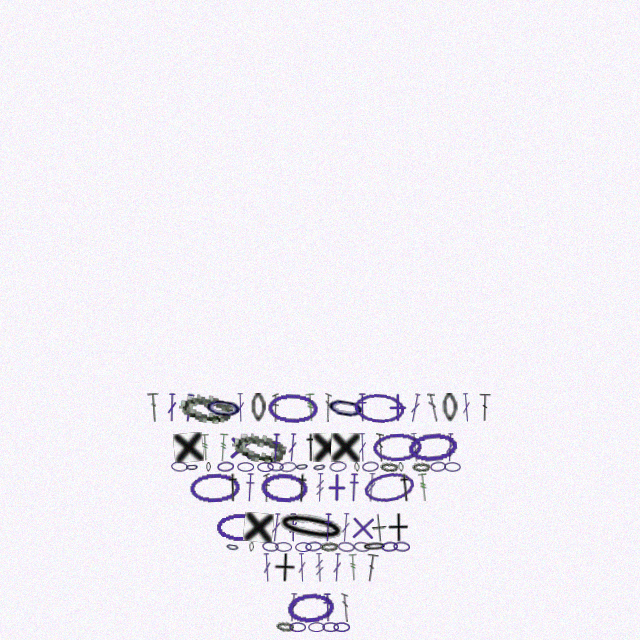chain: (273, 507, 349, 548), (230, 429, 288, 466), (362, 469, 416, 506), (178, 391, 234, 425), (353, 392, 406, 424), (407, 431, 458, 464), (286, 591, 336, 624), (189, 472, 240, 503), (372, 432, 423, 463), (324, 390, 368, 425), (267, 393, 318, 423), (260, 472, 309, 503), (216, 513, 265, 542), (202, 391, 245, 424), (442, 393, 458, 422), (251, 393, 266, 422), (362, 541, 387, 552), (337, 541, 355, 553), (353, 541, 371, 553), (279, 461, 297, 473), (276, 621, 294, 632), (320, 541, 338, 552), (329, 461, 347, 472), (262, 541, 279, 552), (305, 541, 322, 552), (381, 541, 398, 552), (393, 541, 410, 552), (171, 461, 188, 472), (217, 461, 234, 472), (267, 461, 284, 472), (362, 461, 379, 472), (225, 541, 240, 553), (312, 461, 327, 473), (380, 462, 398, 472), (412, 462, 430, 472), (430, 461, 446, 472), (289, 622, 306, 632), (308, 622, 325, 632), (322, 622, 339, 632), (333, 622, 350, 632), (275, 542, 292, 552), (295, 542, 312, 552), (237, 462, 254, 472), (257, 462, 274, 472), (444, 462, 461, 472), (295, 461, 309, 472), (185, 462, 199, 472), (354, 462, 360, 472), (398, 462, 404, 472), (249, 542, 254, 552), (206, 462, 211, 472)
double: (364, 553, 379, 583), (408, 393, 422, 423), (147, 393, 161, 422), (287, 593, 299, 622), (270, 513, 282, 542), (427, 393, 439, 422), (479, 393, 491, 422), (340, 513, 351, 542), (366, 473, 377, 502), (287, 433, 298, 462), (461, 393, 472, 422), (262, 553, 272, 582), (297, 553, 307, 582), (332, 553, 342, 582), (288, 513, 298, 542), (445, 433, 455, 462), (167, 393, 177, 422), (341, 593, 350, 622), (358, 433, 367, 462), (236, 393, 245, 422), (376, 433, 384, 462), (324, 393, 332, 422), (263, 473, 270, 502), (272, 393, 279, 422)
half_double: (293, 473, 311, 503), (397, 473, 414, 502), (225, 473, 241, 502), (303, 433, 319, 462), (182, 393, 196, 423), (322, 513, 334, 542), (244, 473, 256, 502), (348, 473, 360, 502), (270, 433, 282, 462), (322, 593, 333, 622), (357, 393, 368, 422)
single: (243, 512, 274, 543), (173, 432, 204, 463), (348, 513, 378, 543), (226, 433, 256, 463), (322, 473, 351, 502), (313, 433, 342, 462), (331, 433, 360, 462), (383, 393, 412, 422), (273, 553, 296, 582), (387, 513, 409, 542), (371, 513, 388, 543)
treble: (417, 473, 430, 502), (409, 433, 421, 462), (314, 553, 325, 582), (348, 553, 359, 582), (200, 433, 211, 462), (218, 433, 229, 462), (305, 393, 316, 422), (315, 473, 325, 502)
